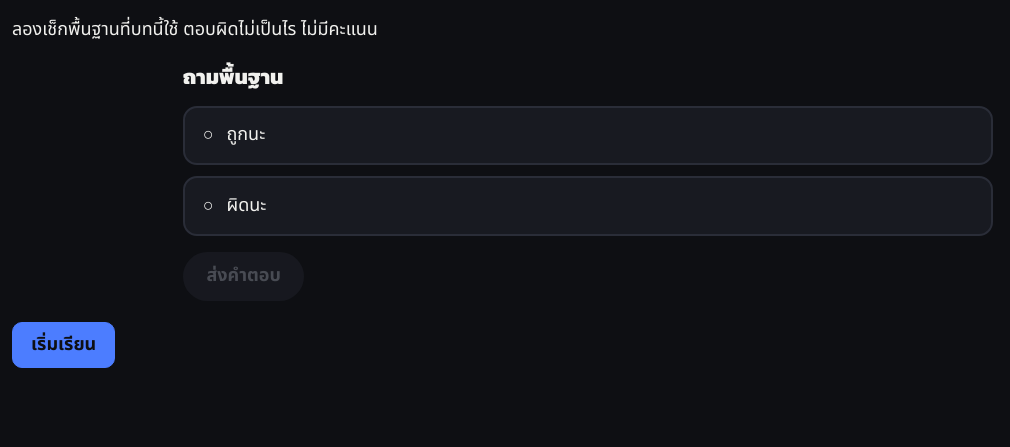
Test: PrecheckStep › right answer shows explanation but no review link
Click the button "○ ถูกนะ" at (246,135), box [183,106,993,166]
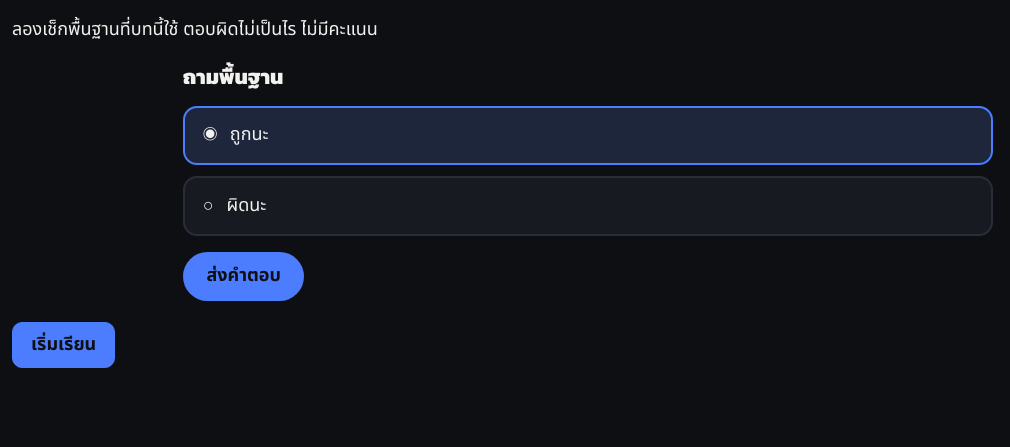
Click the button "ส่งคำตอบ" at (244,276), box [183,252,304,301]
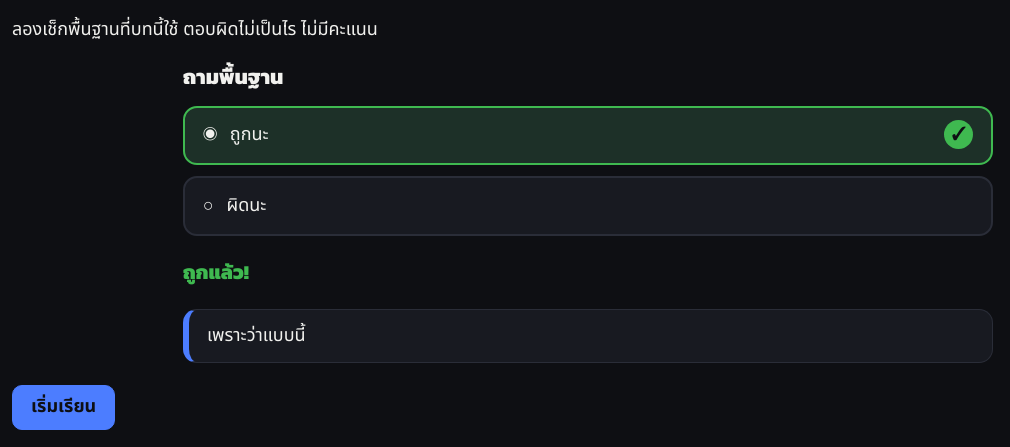
Expected: the text "เพราะว่าแบบนี้" is shown, [183,309,993,364]
